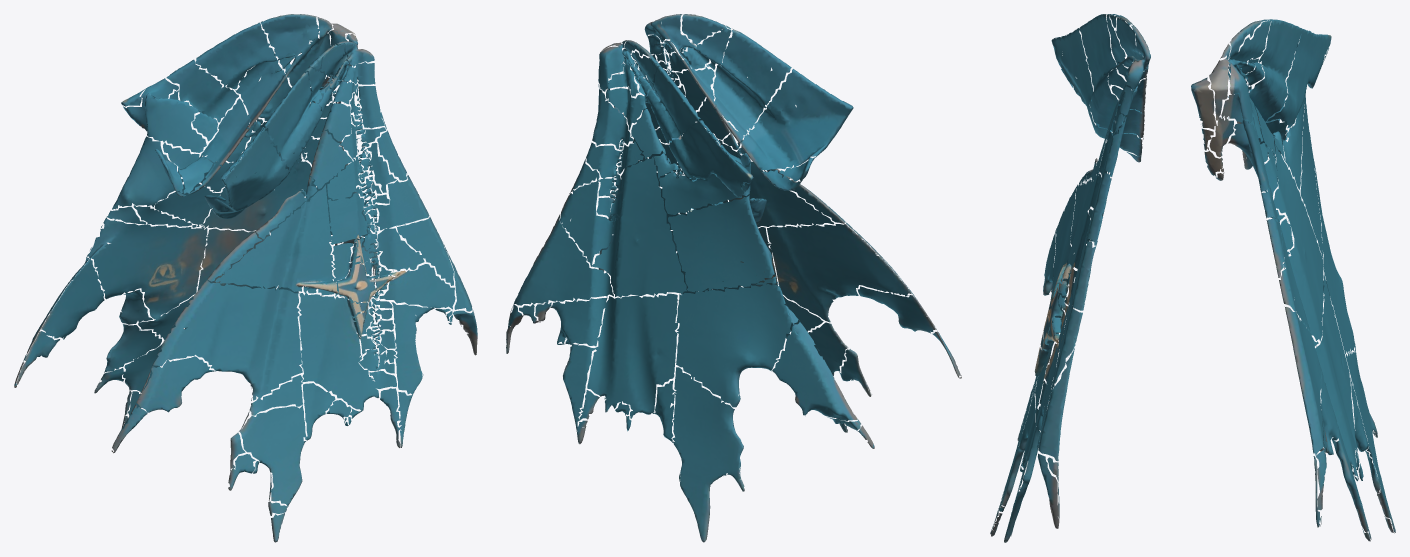
The model's file is rodin-teal-cape-lite.glb.
3 renders of one model, left to right at view 1: azimuth 30°, elevation 25°; view 2: azimuth 150°, elevation 25°; view 3: azimuth 270°, elevation 25°, orthographic. The views are drawn at different scales.
Visible parts, largest first — view 1: TealCape; view 2: TealCape; view 3: TealCape.
Boxes of the visible parts, <box> form: TealCape: <box>14,14,477,542</box>; TealCape: <box>506,14,961,542</box>; TealCape: <box>990,14,1395,542</box>.
Bounding box in the file's own units: 0.8927 × 0.9997 × 0.6258.
1 material, 1 textured.
